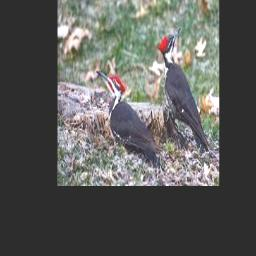Woodpecker: (157, 28, 213, 156), (97, 70, 164, 159)
